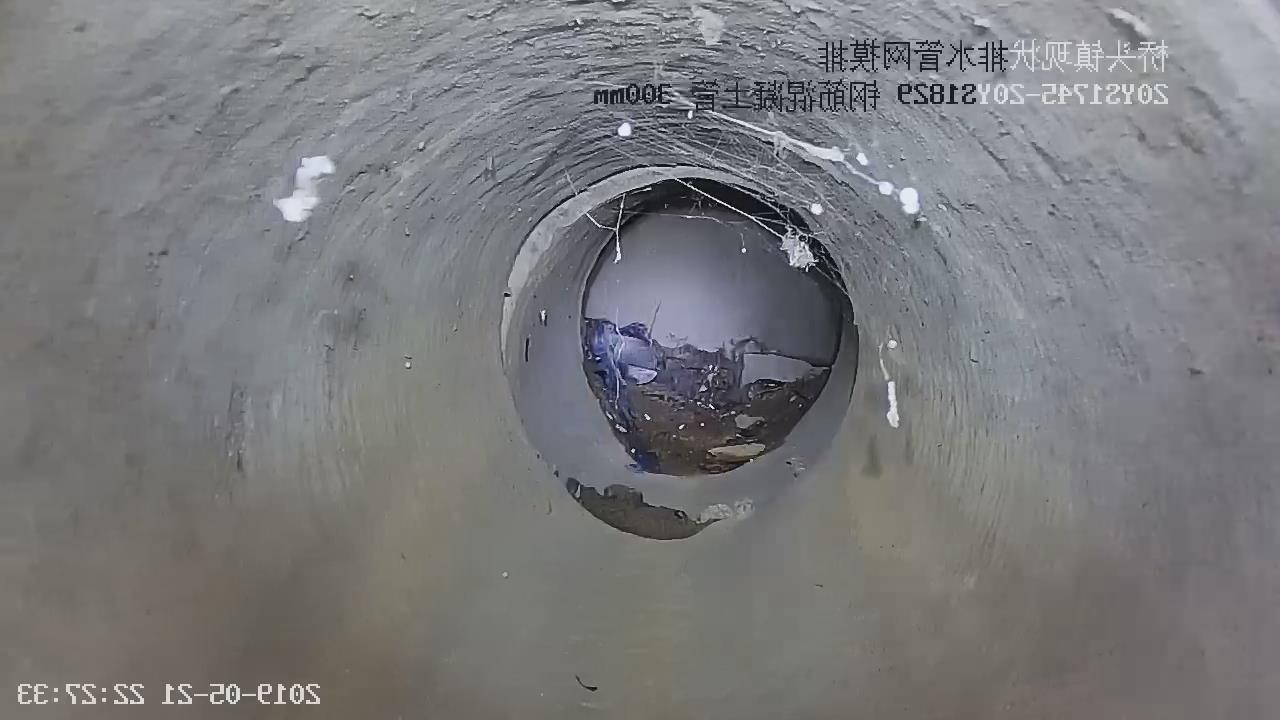CJ: (583, 314, 845, 475)
CKTJ: (501, 161, 772, 354)
